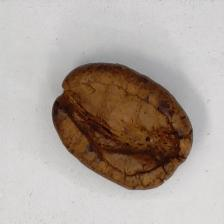NG: (67, 76, 182, 172)
